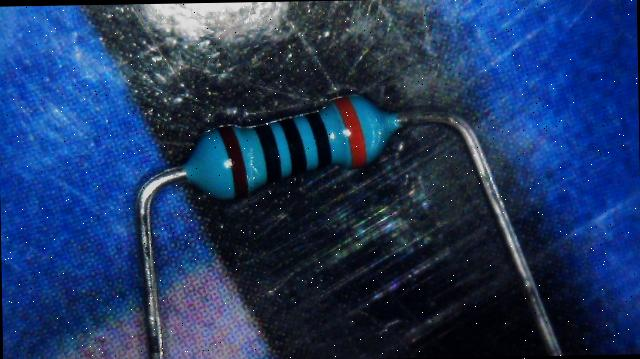black: (279, 116, 306, 174), (254, 123, 280, 180), (304, 110, 330, 167)
brown: (218, 126, 248, 197)
orange: (334, 97, 366, 166)
resistor: (159, 66, 418, 224)
